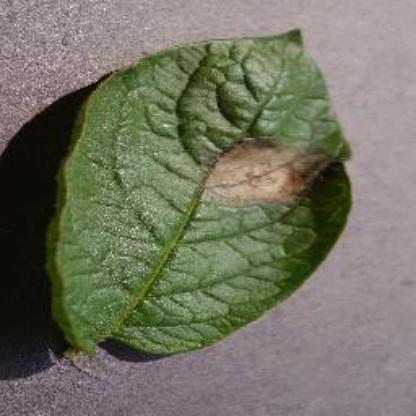Late-Blight: (25, 20, 364, 382)
